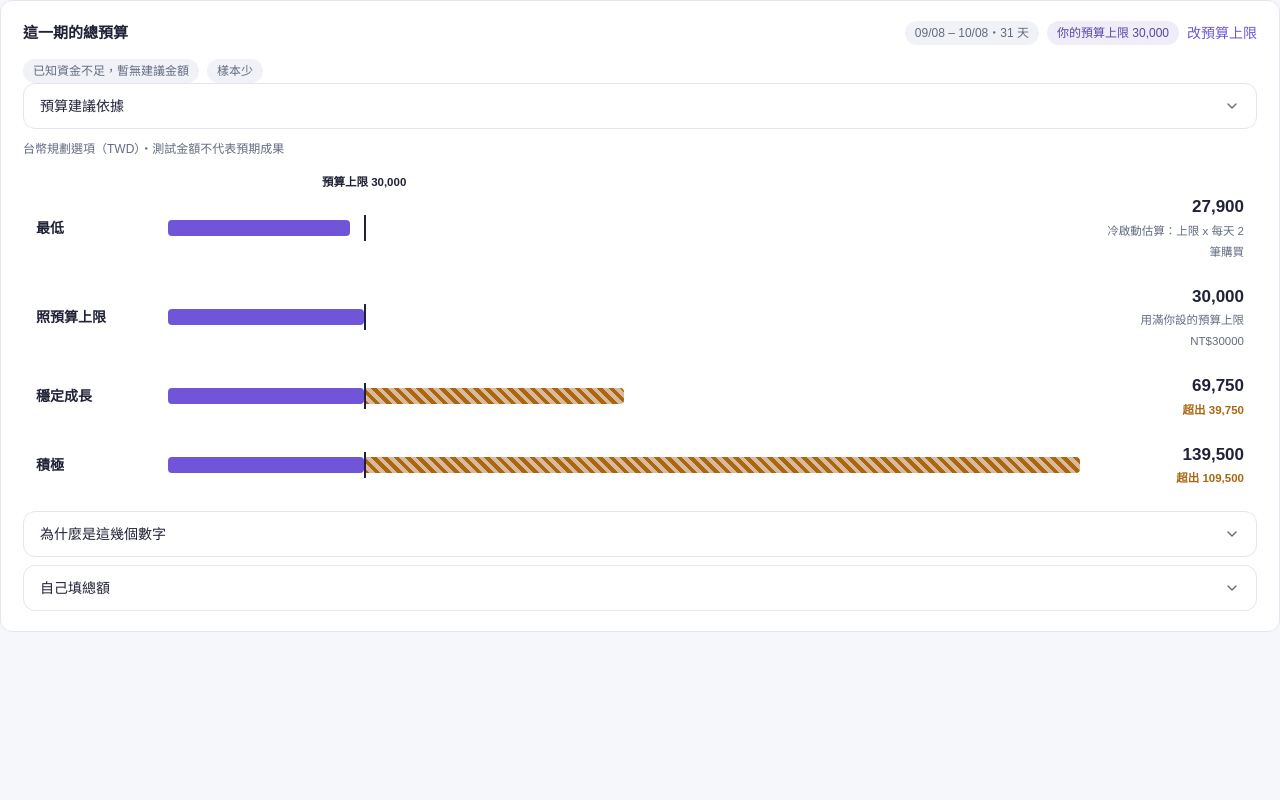
BudgetScenarios › prints served unaffordable without reclassifying a nullable recommendation
Expected: the text "已知資金不足，暫無建議金額" is shown, 23,59 -> 199,83
Click the button "預算建議依據" at (82, 106), box 24,84 -> 1256,128
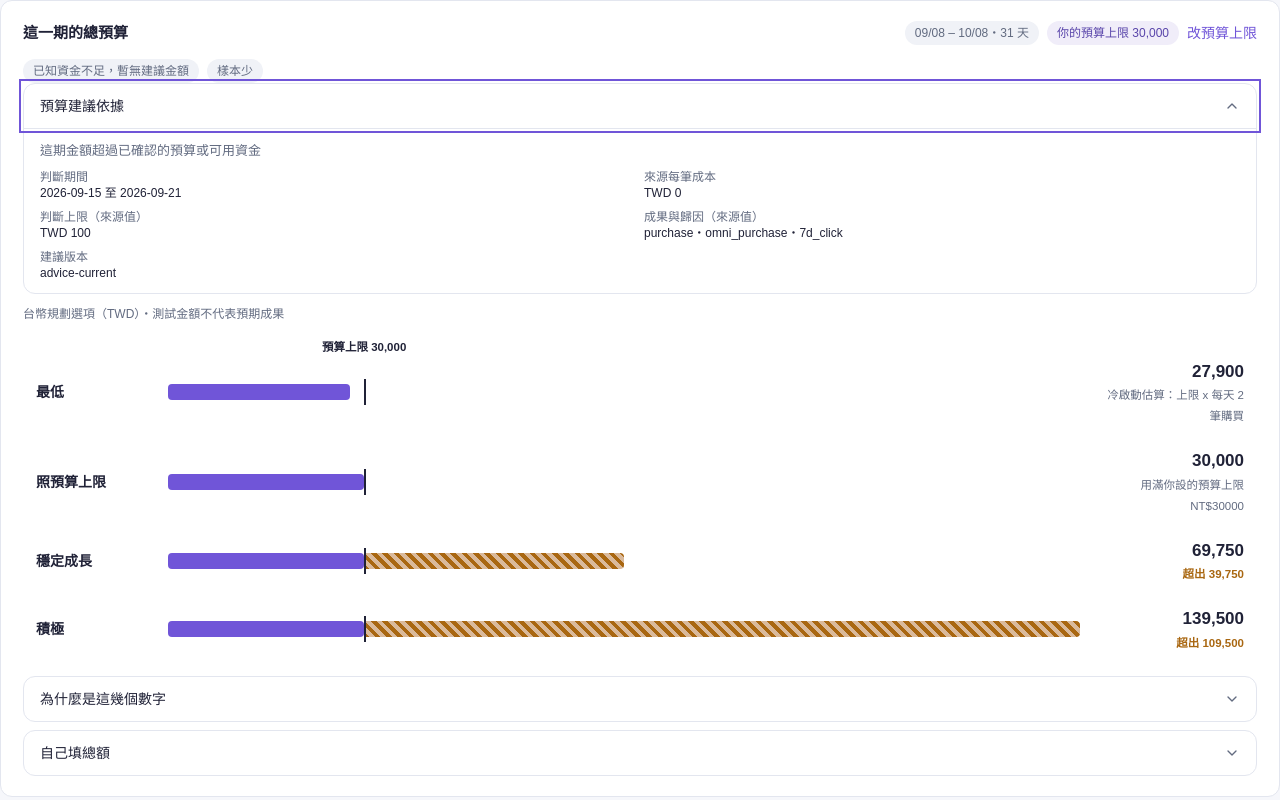
Expected: the list item "這期金額超過已確認的預算或可用資金" is shown, 40,143 -> 261,158
Expected: the text "TWD 0" is shown, 644,186 -> 681,200
Expected: the text "advice-current" is shown, 40,266 -> 116,280
